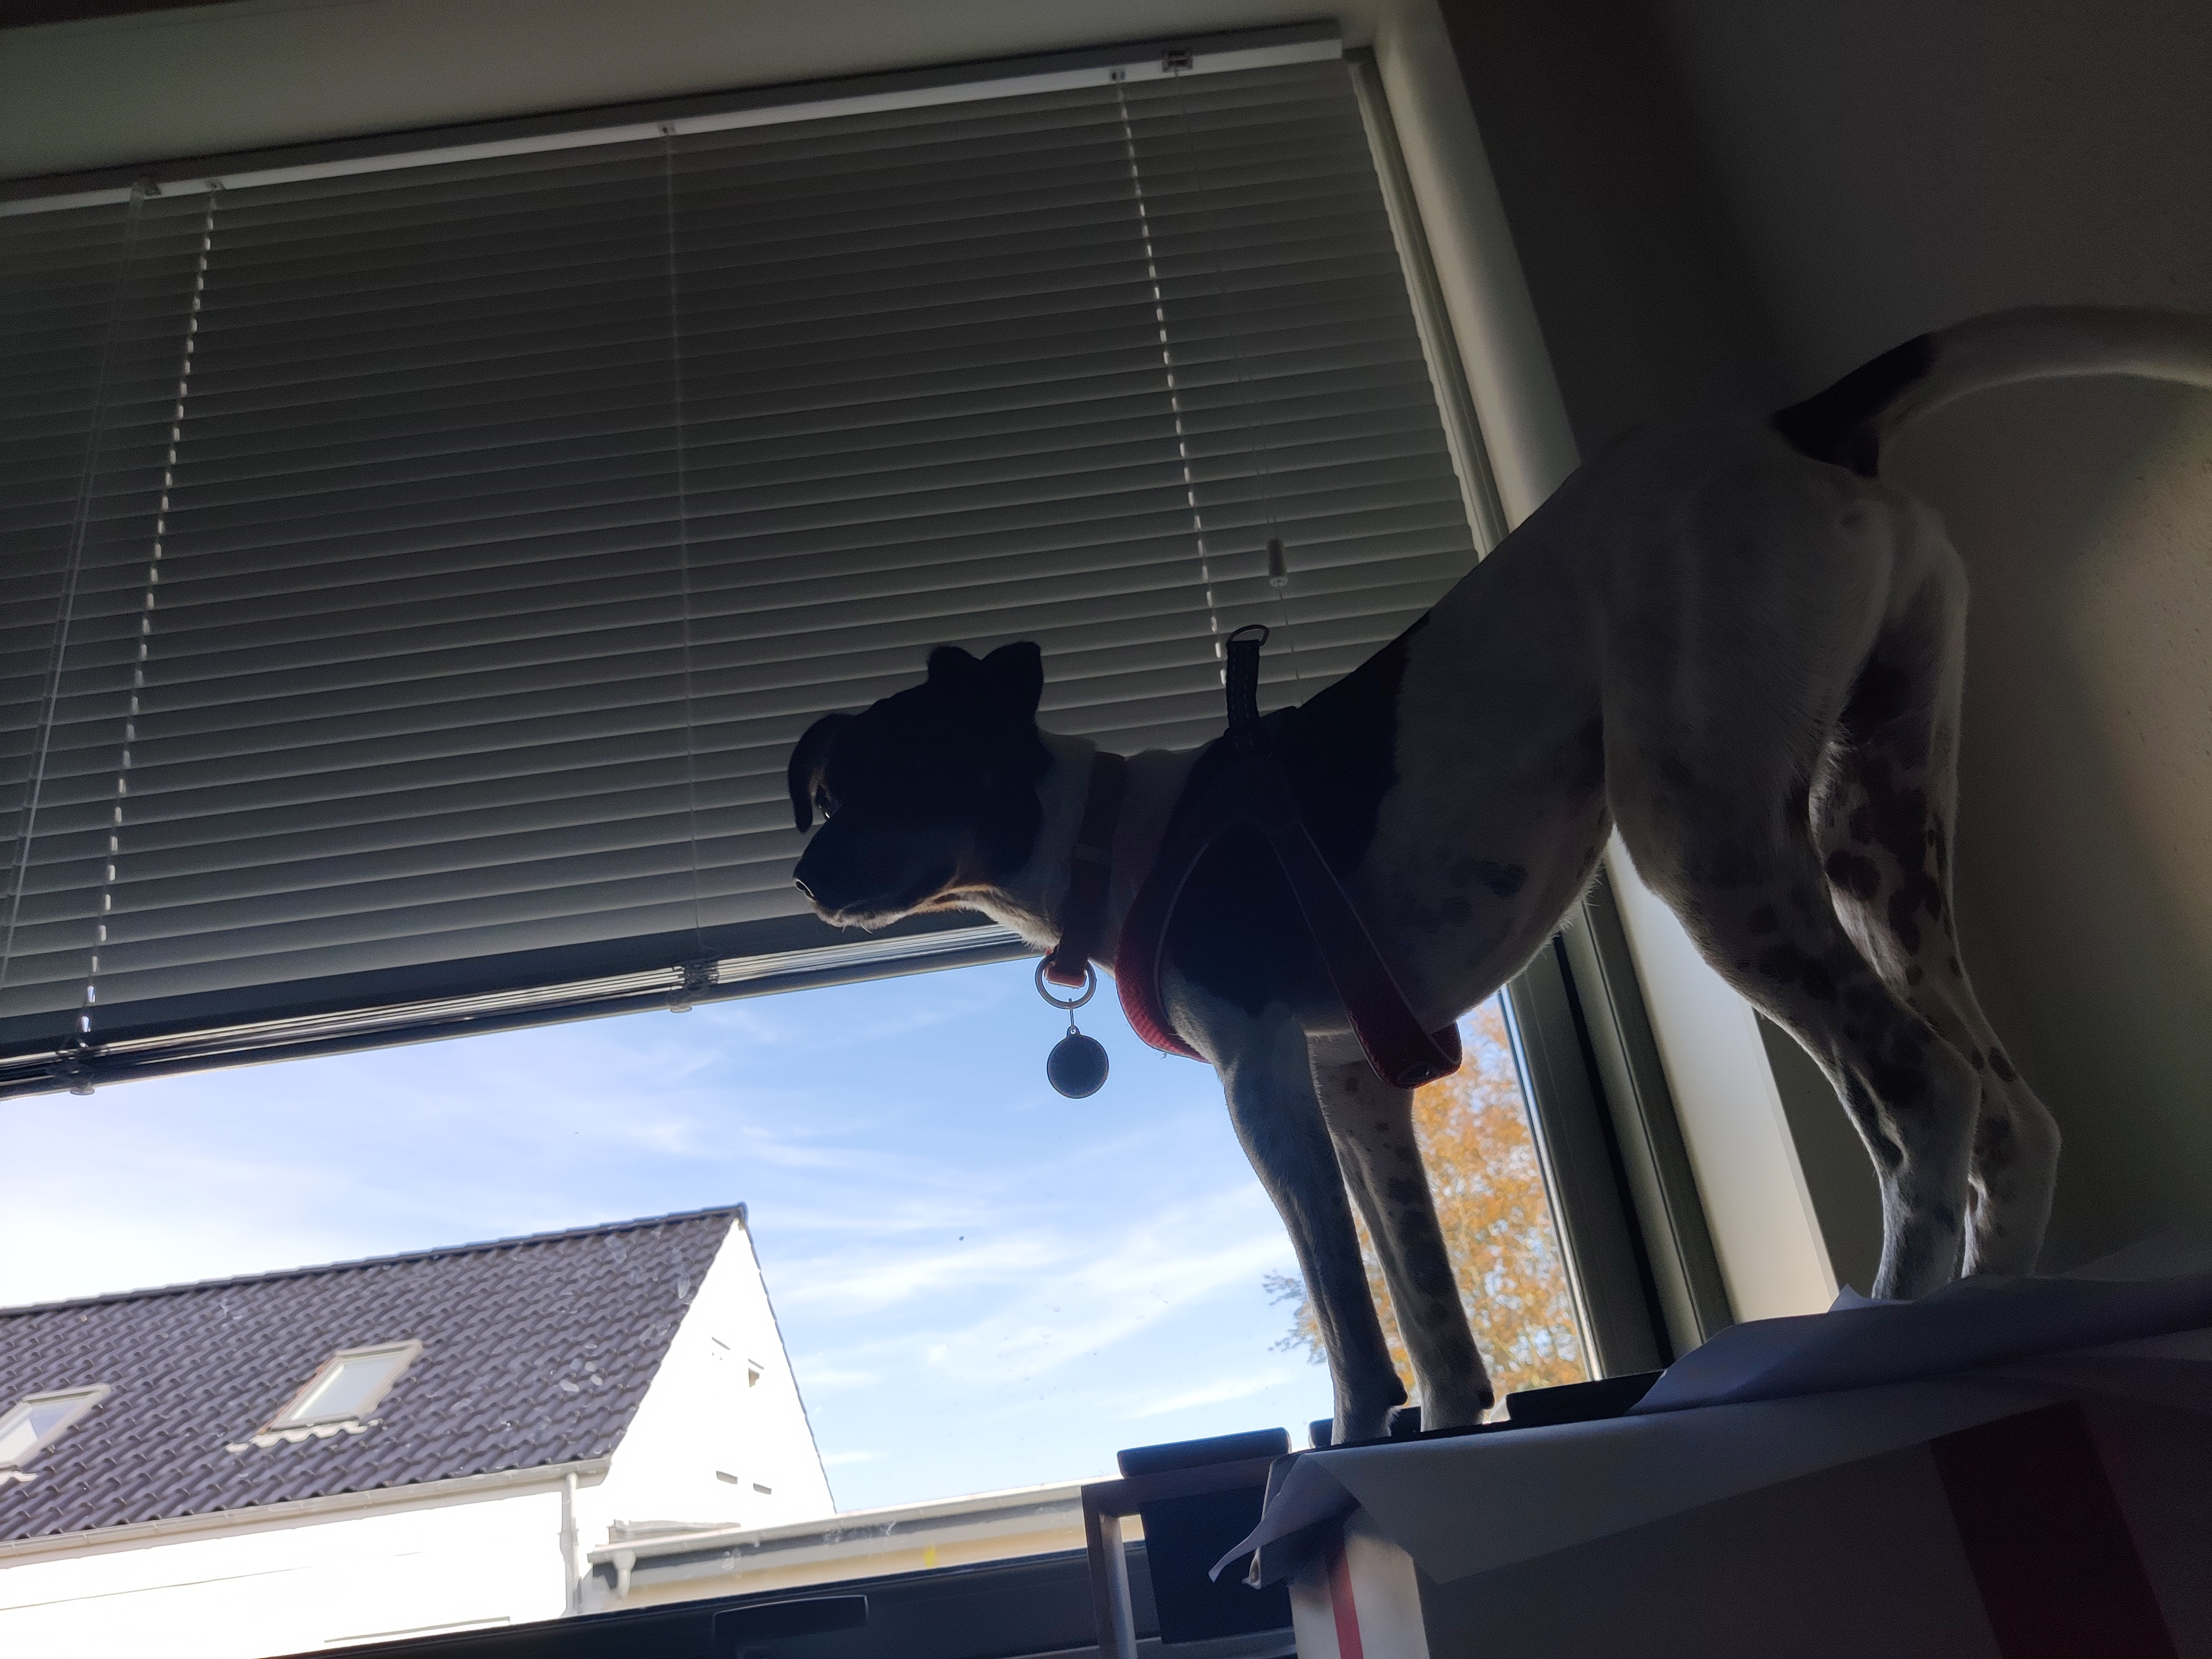Dog: (772, 281, 2212, 1460)
